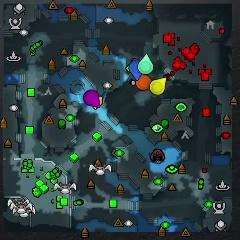p1: (129, 60, 142, 81)
p2: (138, 53, 153, 74)
p3: (83, 90, 100, 107)
p4: (150, 78, 166, 95)
p5: (136, 74, 151, 90)
